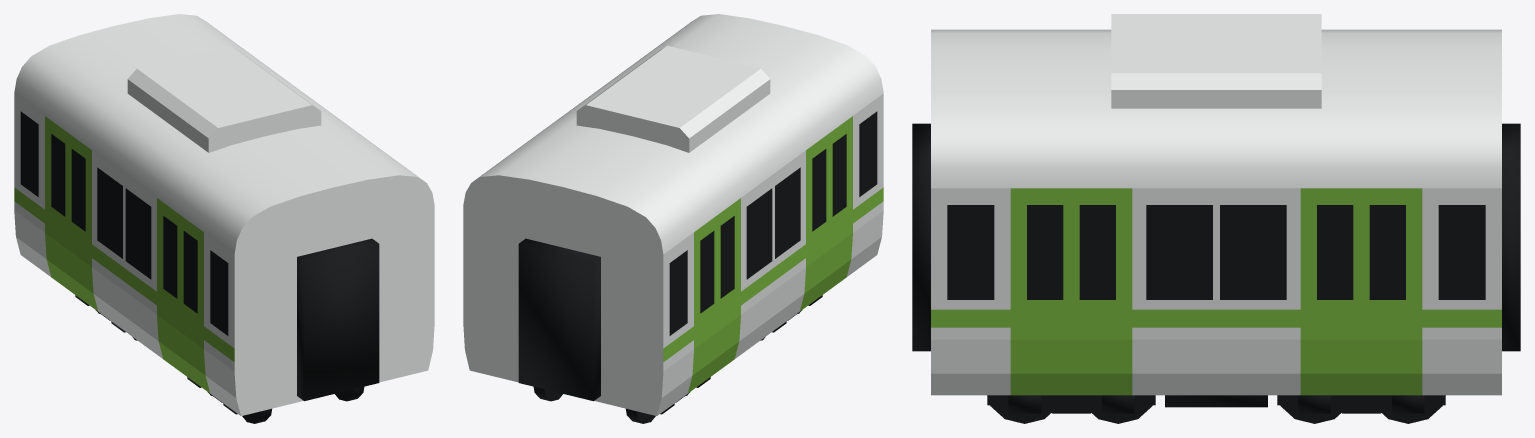
Rendered from E235_MidCar.fbx.
3 views of the same model, side by side, from view 1: azimuth 30°, elevation 25°; view 2: azimuth 150°, elevation 25°; view 3: azimuth 270°, elevation 25° (orthographic). The views are drawn at different scales.
Parts seen in each view (by area): view 1: E235_MidCar, E235_MidCar_Bogie_Front; view 2: E235_MidCar, E235_MidCar_Bogie_Rear; view 3: E235_MidCar, E235_MidCar_Bogie_Front, E235_MidCar_Bogie_Rear.
Part boxes in pixels (box(x1,y1,x2,y2)): E235_MidCar: box(14, 14, 434, 415); E235_MidCar_Bogie_Front: box(187, 377, 364, 423); E235_MidCar: box(463, 14, 883, 415); E235_MidCar_Bogie_Rear: box(533, 377, 710, 423); E235_MidCar: box(912, 14, 1520, 407); E235_MidCar_Bogie_Front: box(987, 395, 1155, 423); E235_MidCar_Bogie_Rear: box(1277, 395, 1445, 423).
Bounding box in the file's own units: 1.28 × 1.64 × 2.6.
